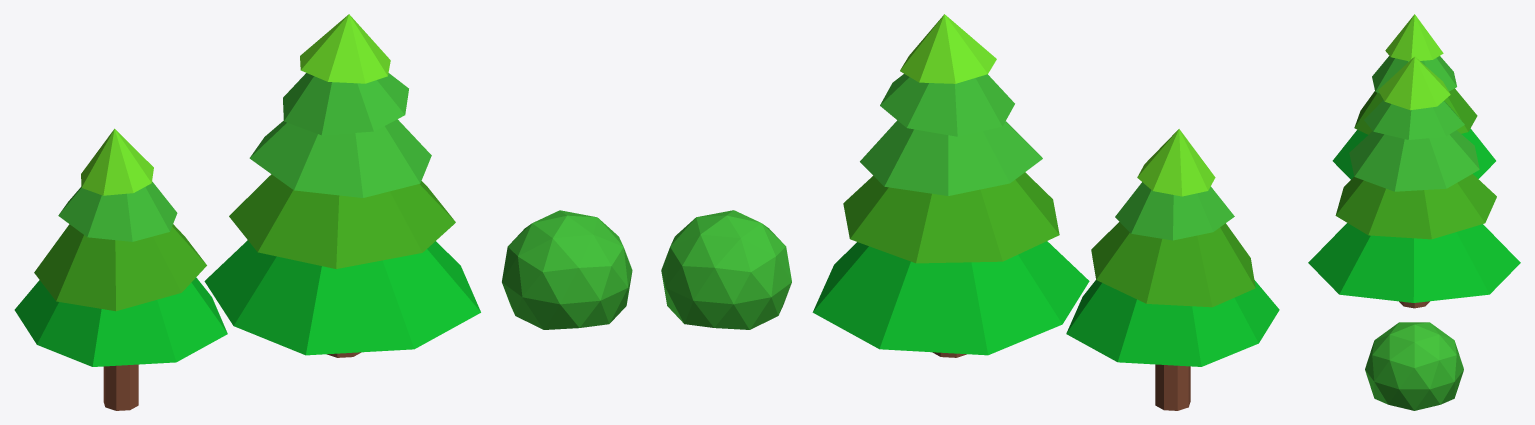
File: vegetation.fbx
The picture shows the model from 3 angles, left to right: view 1: azimuth 30°, elevation 25°; view 2: azimuth 150°, elevation 25°; view 3: azimuth 270°, elevation 25°; orthographic projection. The views are drawn at different scales.
Visible parts, largest first — view 1: tree.2, tree.1, bush.1; view 2: tree.2, tree.1, bush.1; view 3: tree.2, bush.1, tree.1.
Boxes of the visible parts, box(x1,y1,x2,y2) form: tree.2: box(204, 14, 480, 357); tree.1: box(14, 128, 227, 410); bush.1: box(502, 210, 632, 329); tree.2: box(812, 14, 1089, 357); tree.1: box(1066, 129, 1279, 410); bush.1: box(661, 210, 791, 329); tree.2: box(1308, 56, 1520, 308); bush.1: box(1365, 322, 1463, 410); tree.1: box(1332, 14, 1495, 179).
Size of the model in its own units: 15 by 8.49 by 6.35.
